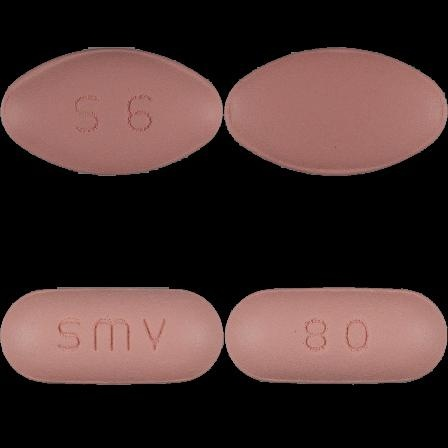50436-0124: (0, 0, 224, 224)
